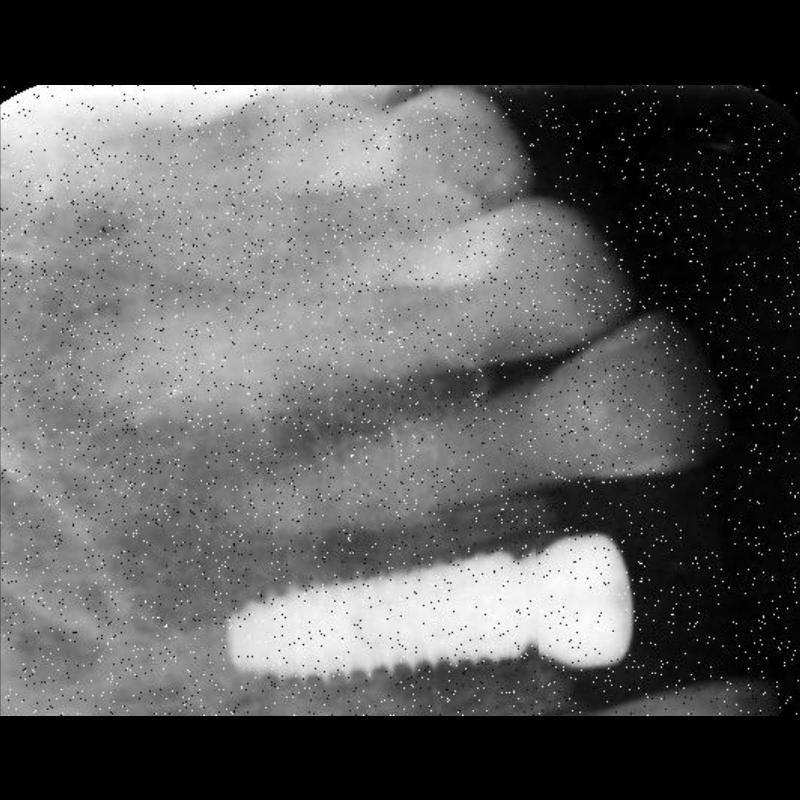Dentium: (222, 548, 538, 690)
